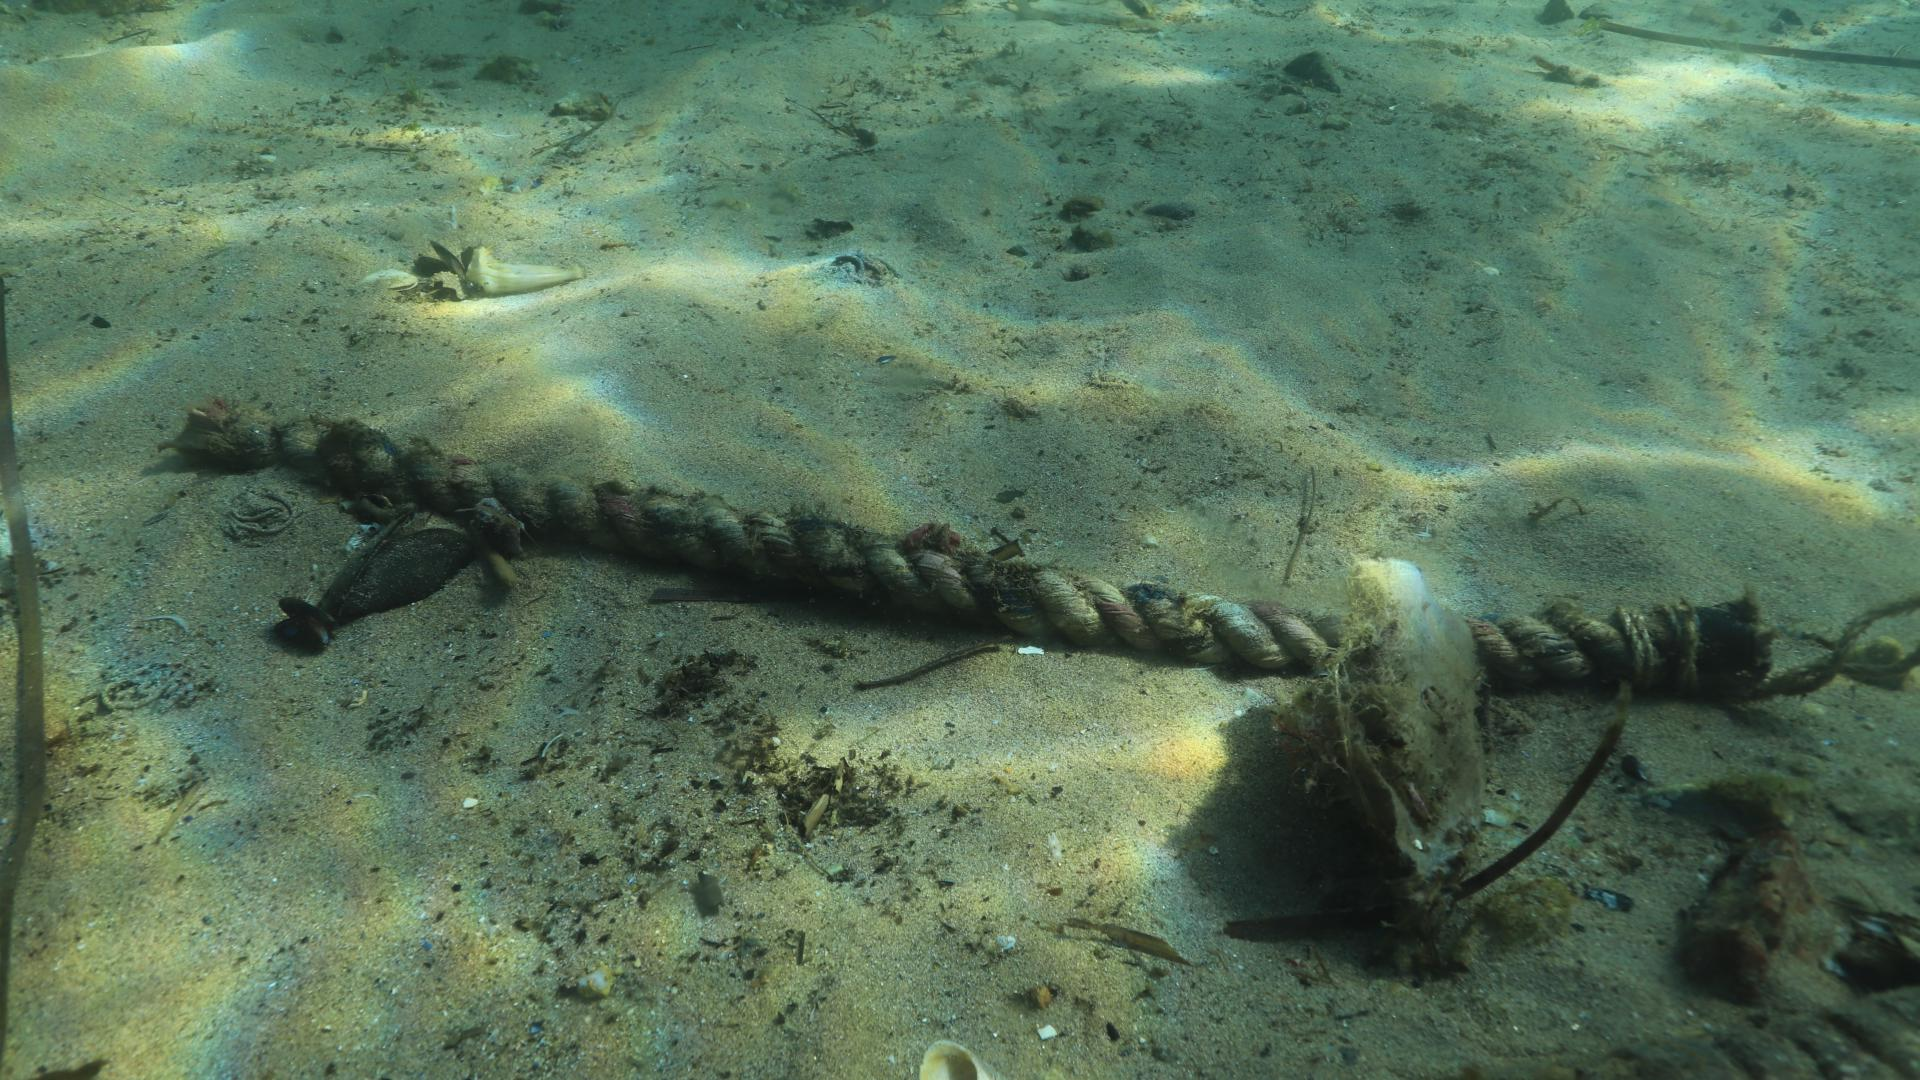rope: (249, 405, 1693, 694)
